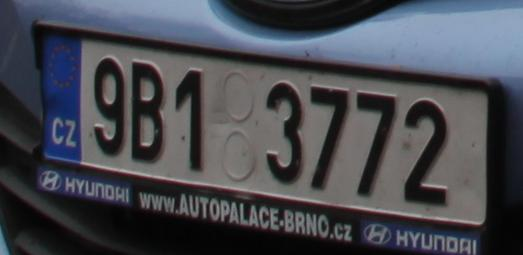1: (176, 69, 203, 170)
2: (407, 99, 447, 203)
3: (266, 81, 301, 183)
7: (357, 91, 396, 195), (309, 86, 347, 190)
9: (94, 57, 126, 156)
B: (130, 61, 164, 160)
